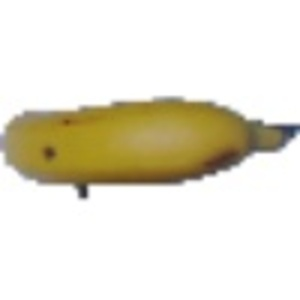banana: (1, 92, 288, 189)
